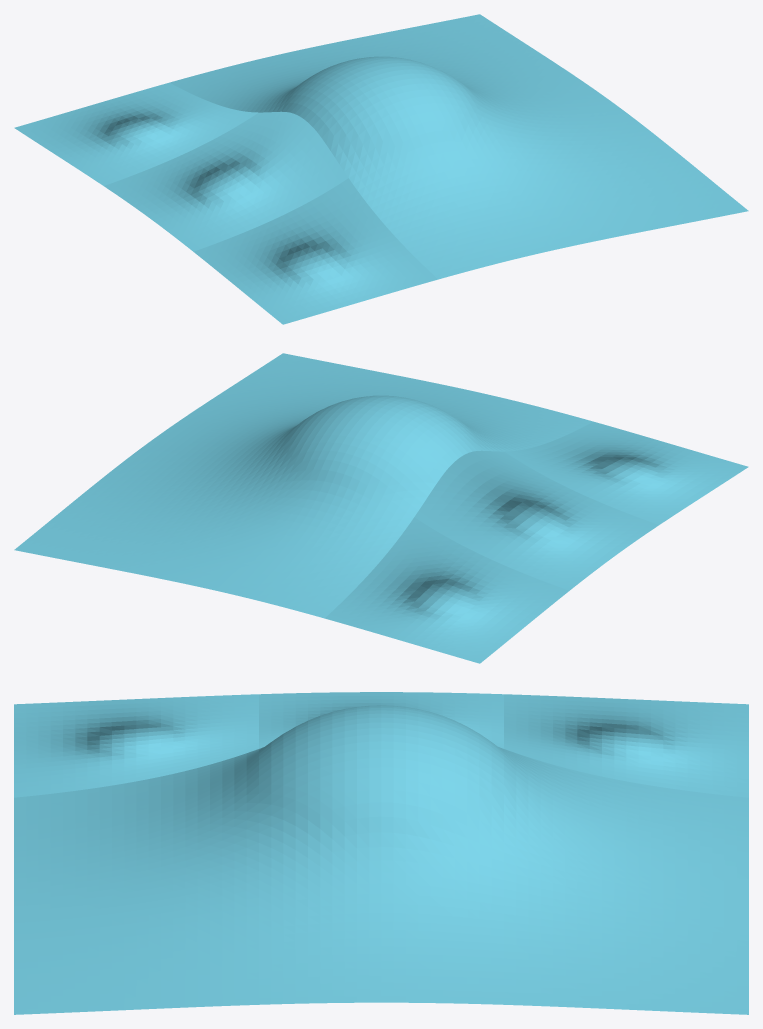
3 views of the same model, one above another, from view 1: azimuth 30°, elevation 25°; view 2: azimuth 150°, elevation 25°; view 3: azimuth 270°, elevation 25° (orthographic). The views are drawn at different scales.
Size of the model in its own units: 4 by 0.8232 by 4.
